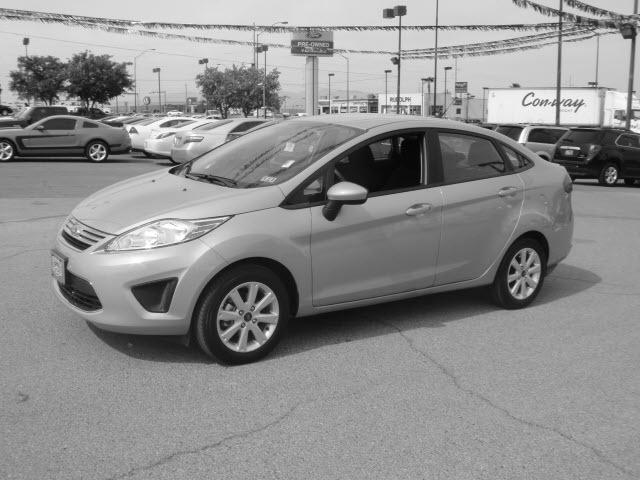car: (49, 114, 577, 367)
